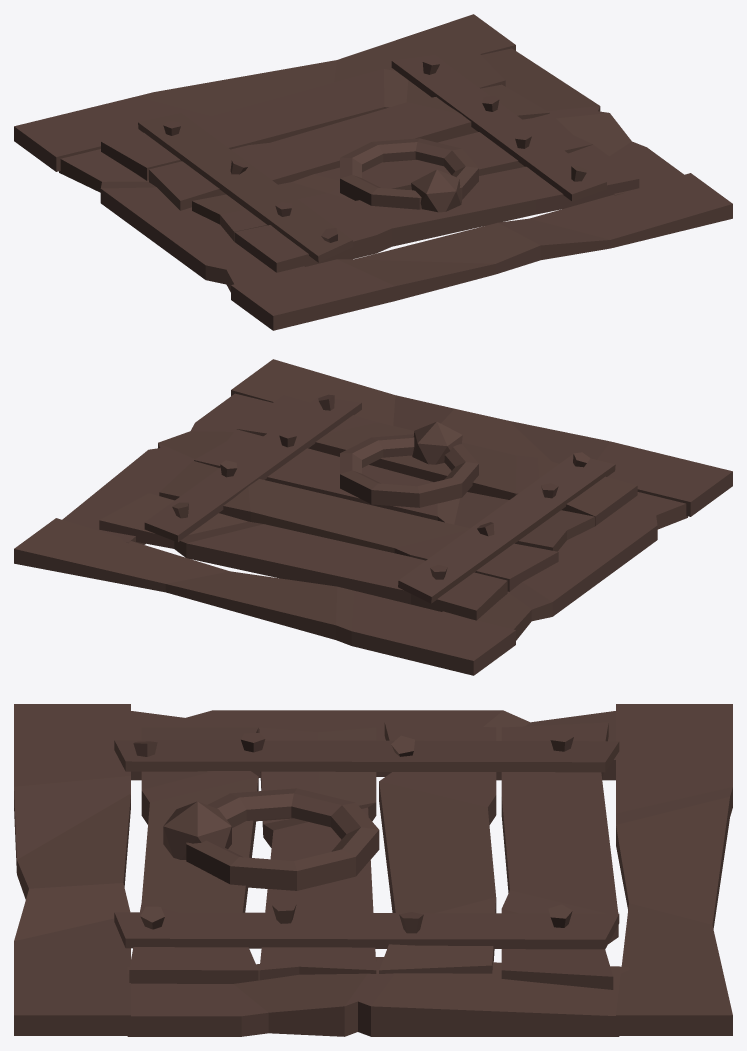
The picture shows the model from 3 angles, top to bottom: view 1: azimuth 30°, elevation 25°; view 2: azimuth 150°, elevation 25°; view 3: azimuth 270°, elevation 25°; orthographic projection. The views are drawn at different scales.
Visible parts, largest first — view 1: Trapdoor_Cylinder.006; view 2: Trapdoor_Cylinder.006; view 3: Trapdoor_Cylinder.006.
Part boxes in pixels (x1,y1,x2,y2): Trapdoor_Cylinder.006: [14, 14, 732, 330]; Trapdoor_Cylinder.006: [14, 359, 732, 675]; Trapdoor_Cylinder.006: [14, 704, 732, 1036].
Size of the model in its own units: 1.74 by 0.2151 by 1.7.
